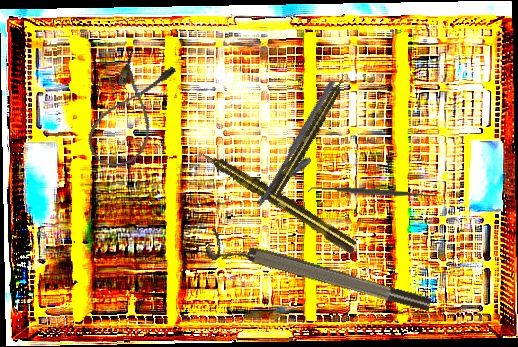Cannula: (80, 47, 181, 177)
Fixation Ring: (203, 227, 434, 325)
Handpiece: (193, 143, 360, 256), (268, 72, 351, 198)
Needle Holder: (255, 79, 353, 217)
Spatula Surgical: (307, 180, 438, 204)
